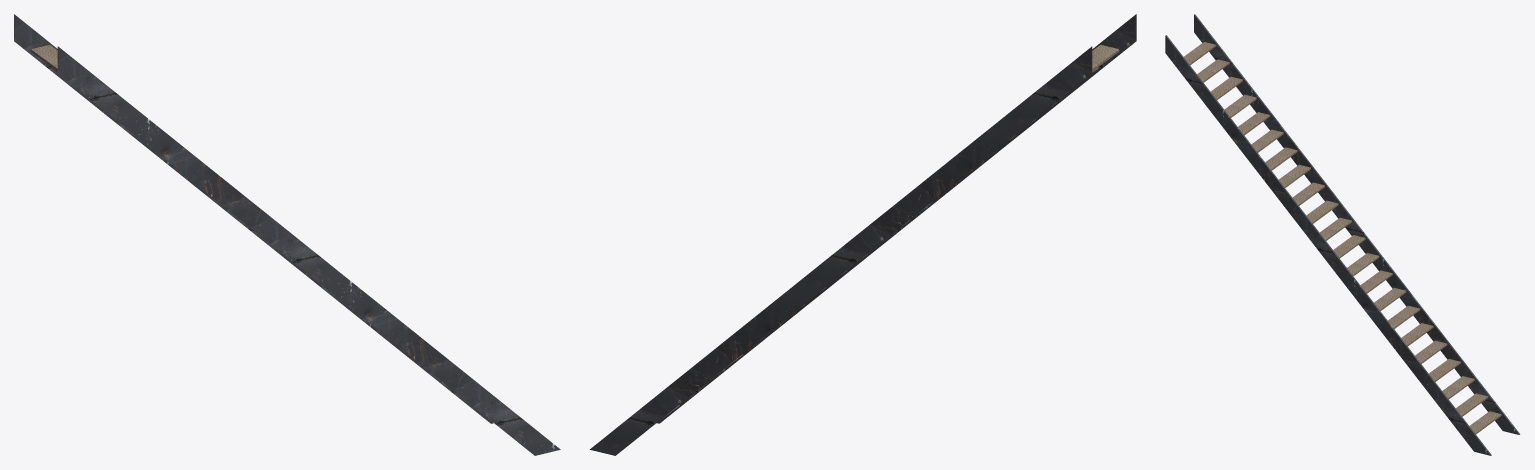
Rendered from BUILDING_exteriorStairs_01.FBX.
The picture shows the model from 3 angles, left to right: view 1: azimuth 30°, elevation 25°; view 2: azimuth 150°, elevation 25°; view 3: azimuth 330°, elevation 25°; orthographic projection. The views are drawn at different scales.
Visible parts, largest first — view 1: BUILDING_exteriorStairs_01; view 2: BUILDING_exteriorStairs_01; view 3: BUILDING_exteriorStairs_01.
Part boxes in pixels (<box>): BUILDING_exteriorStairs_01: <box>14,14,560,455</box>; BUILDING_exteriorStairs_01: <box>590,14,1136,455</box>; BUILDING_exteriorStairs_01: <box>1165,14,1520,455</box>.
Size of the model in its own units: 496 by 496 by 78.2.
2 materials, 2 textured.
